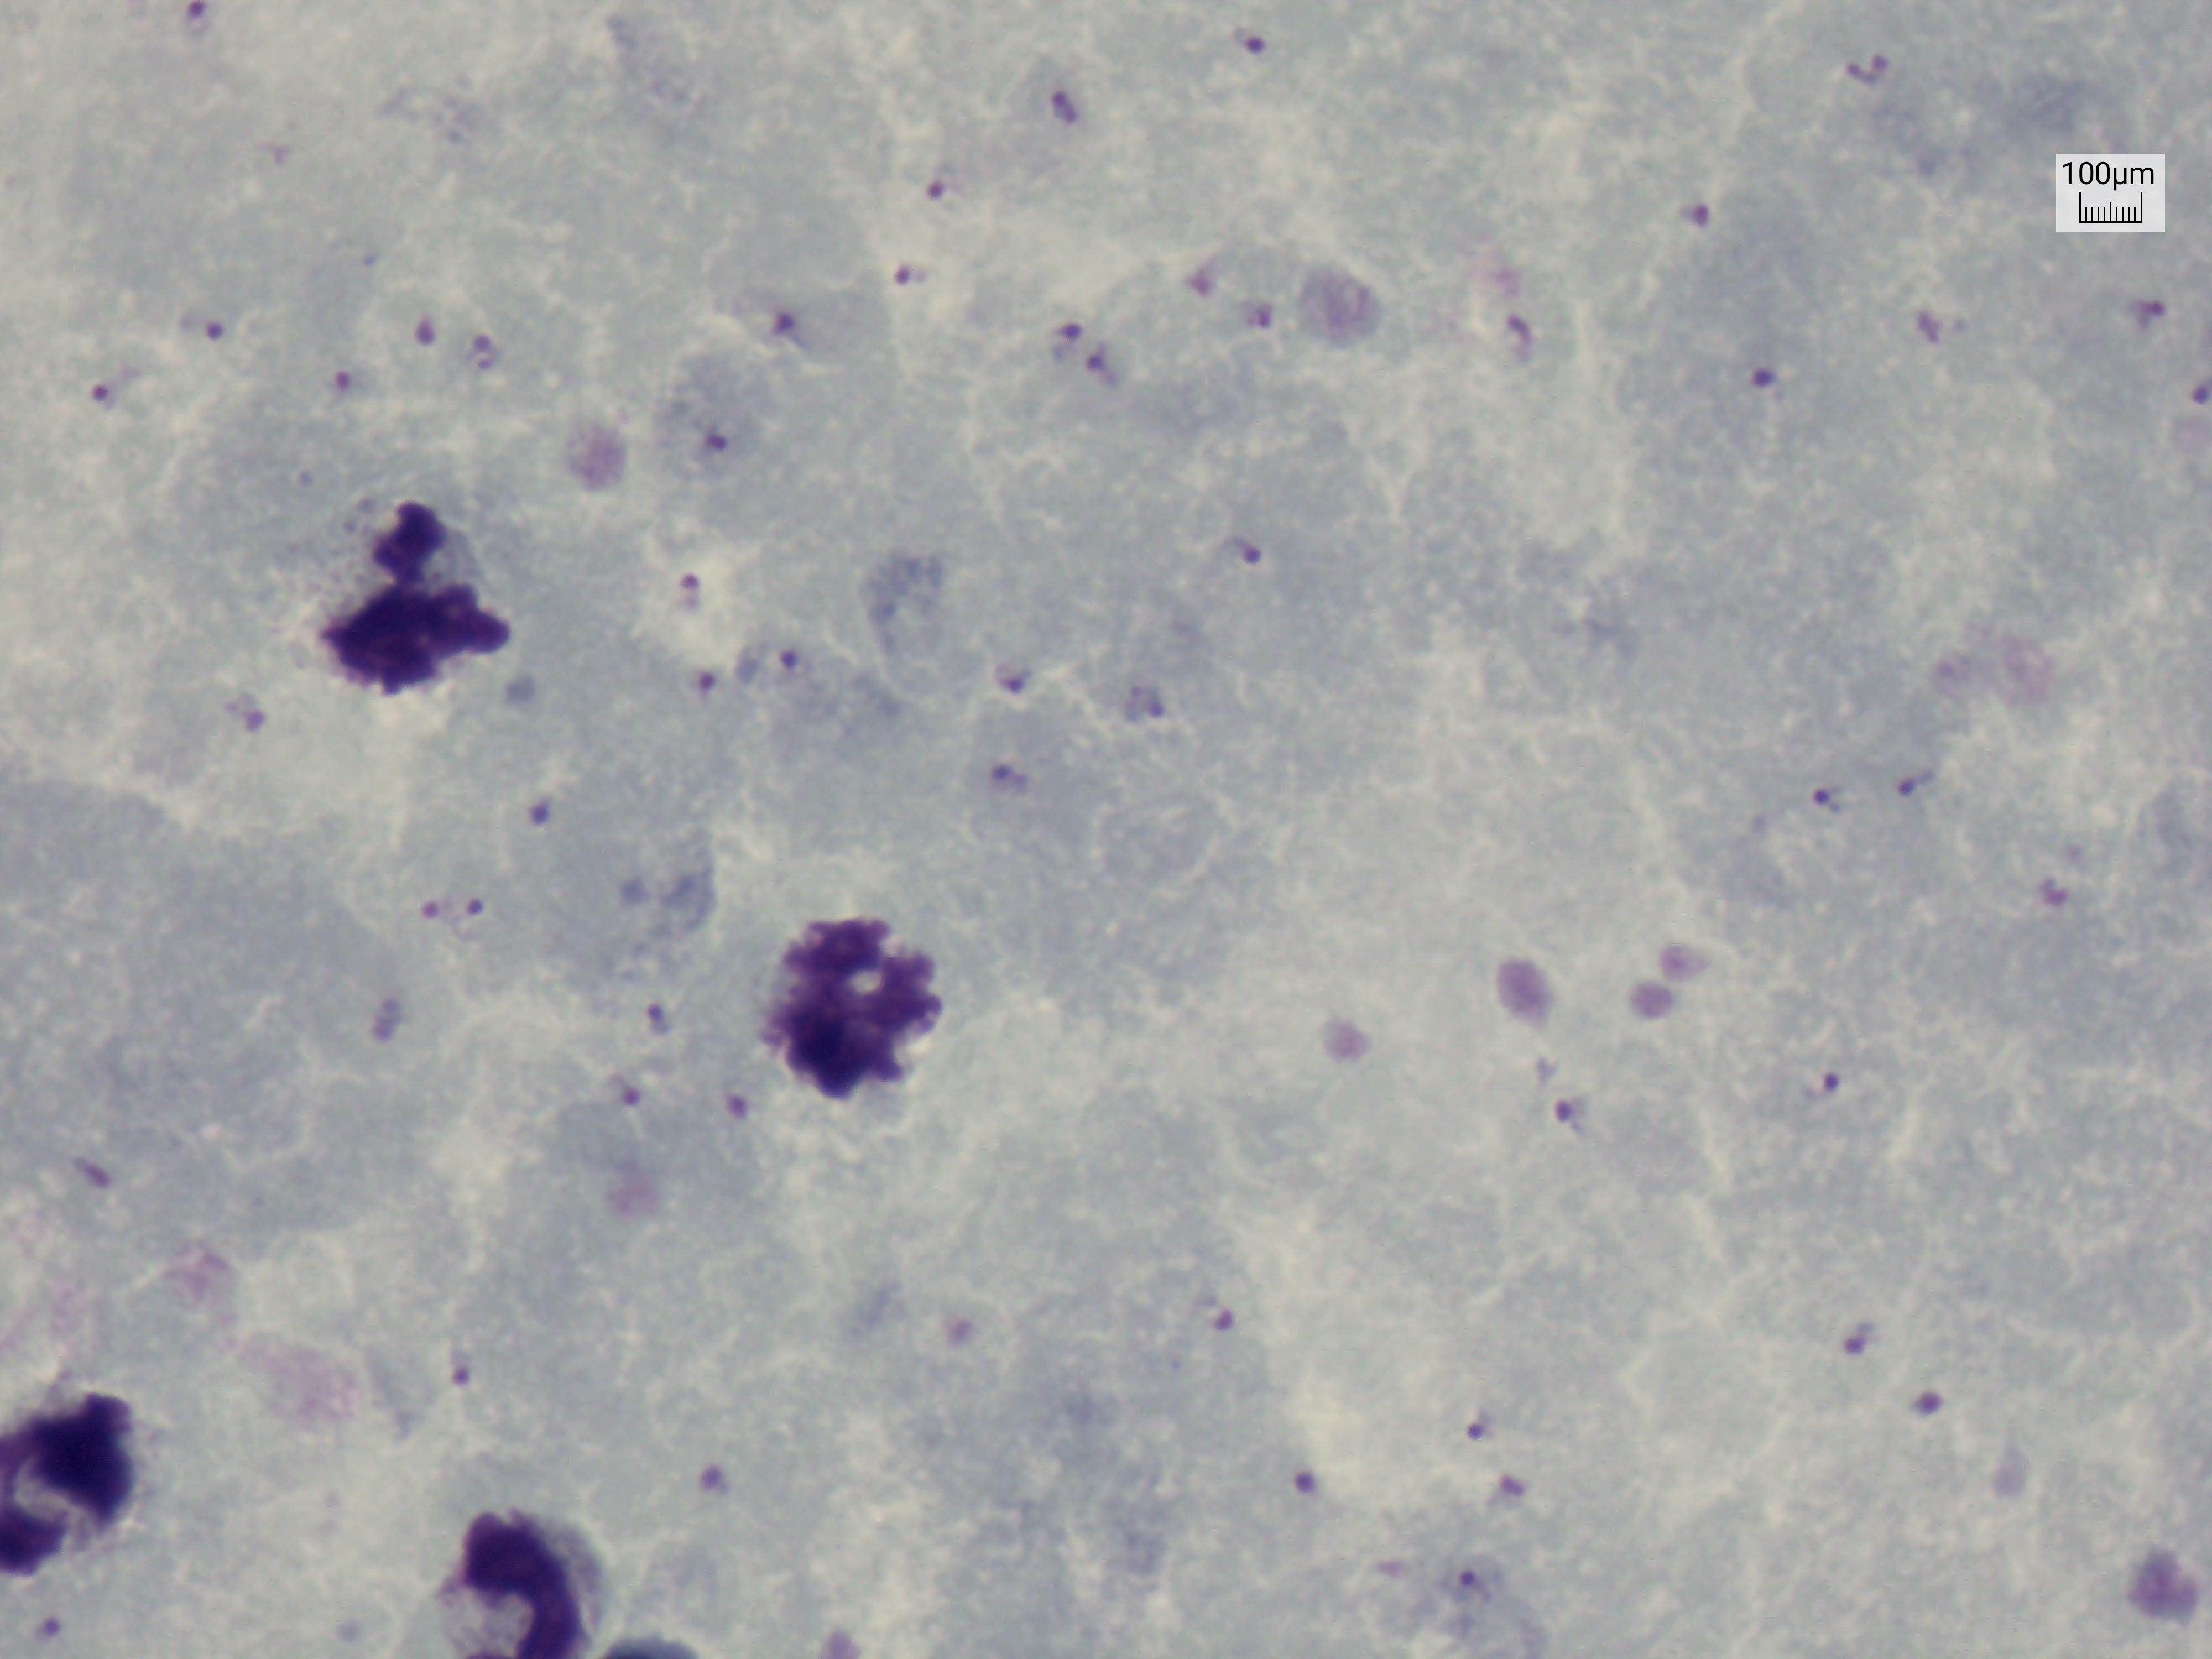p.falciparum: (406, 295, 542, 394), (1444, 1408, 1543, 1525), (1219, 263, 1303, 376), (650, 545, 744, 641), (1040, 307, 1136, 401), (1482, 295, 1562, 394), (1538, 1077, 1615, 1176), (597, 1060, 679, 1152), (1658, 178, 1740, 270), (404, 877, 509, 948), (75, 357, 148, 458), (1195, 514, 1287, 592), (1825, 1291, 1909, 1373), (1836, 5, 1898, 110), (660, 648, 740, 723), (674, 1436, 751, 1509), (1731, 338, 1787, 437), (961, 742, 1038, 812), (681, 404, 751, 479), (1892, 1366, 1966, 1436), (1439, 1544, 1514, 1612), (904, 150, 974, 221), (1883, 742, 1951, 816), (235, 678, 296, 758), (763, 622, 833, 692), (178, 291, 237, 373), (2123, 272, 2177, 357), (1233, 5, 1298, 77), (1186, 1272, 1247, 1345), (320, 349, 369, 439), (874, 239, 941, 303), (988, 648, 1054, 713), (425, 1333, 495, 1394), (1040, 64, 1099, 136), (627, 979, 690, 1046), (155, 0, 247, 44), (1813, 748, 1853, 845), (763, 291, 817, 361), (1277, 1446, 1334, 1511), (2165, 357, 2212, 436), (714, 1060, 765, 1131), (1806, 1060, 1871, 1110)
